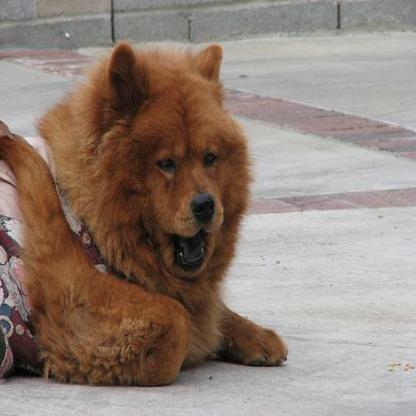chow: (0, 38, 291, 387)
